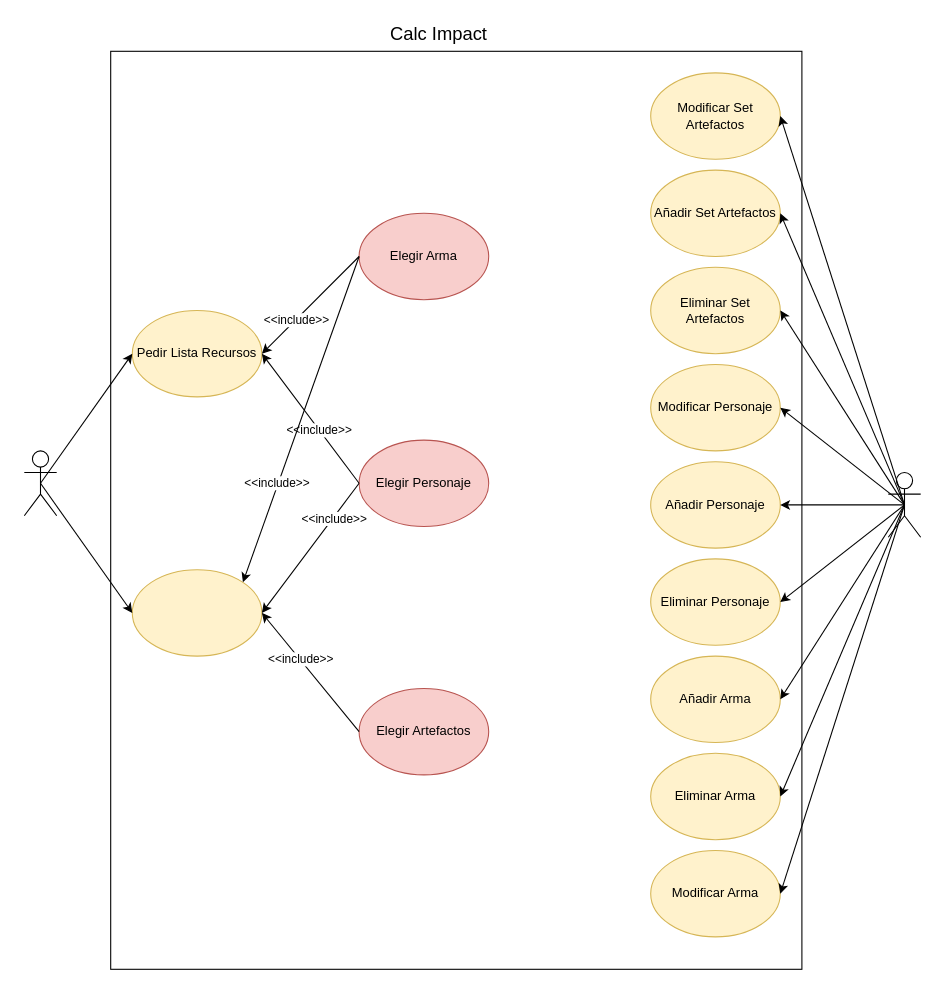
The diagram is 942 pixels wide and 988 high, and some of its shapes have lost their labels. The centre of each missing label's shape, as x and y in pixels:
"Admin" goes at point (904, 504).
"Calcular Stats Personaje" goes at point (196, 612).
"Usuario" goes at point (40, 483).
